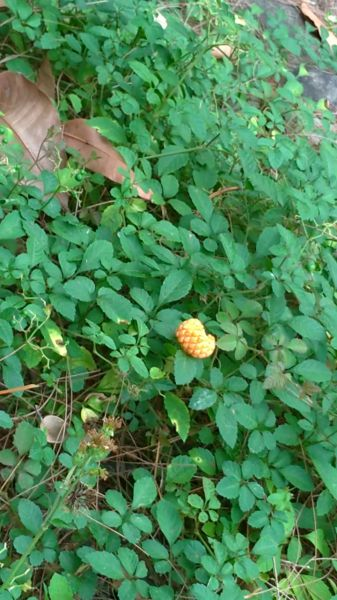eggs: (170, 314, 220, 364)
